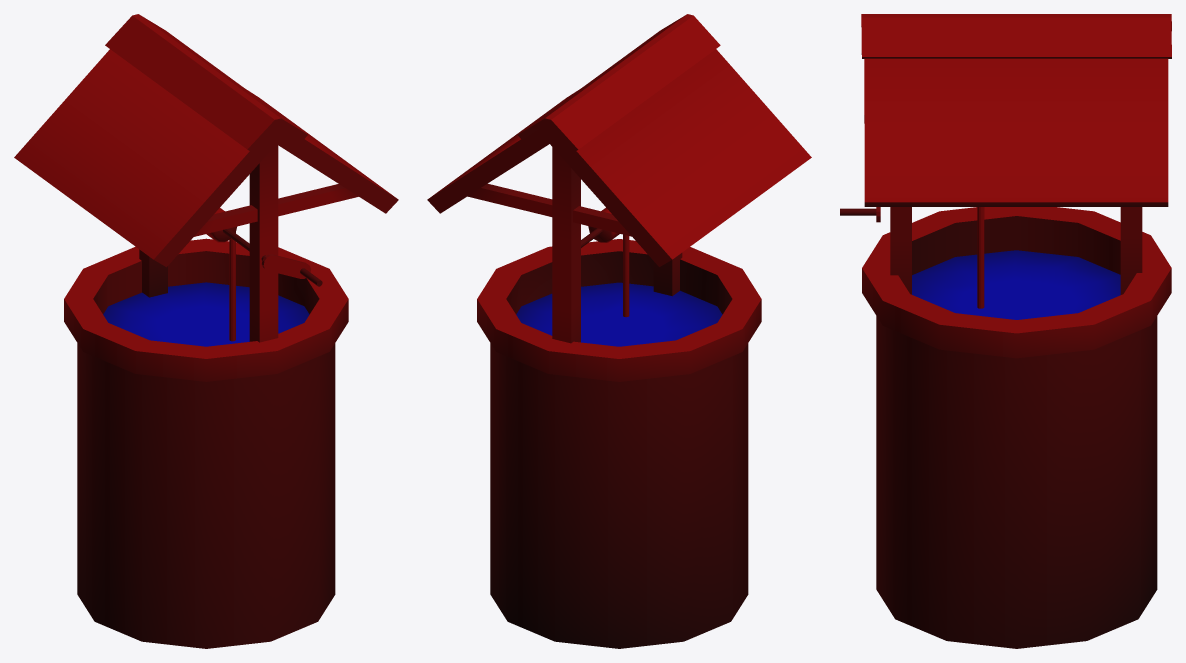
File: Well.glb
The picture shows the model from 3 angles, left to right: view 1: azimuth 30°, elevation 25°; view 2: azimuth 150°, elevation 25°; view 3: azimuth 270°, elevation 25°; orthographic projection. The views are drawn at different scales.
Parts seen in each view (by area): view 1: Well; view 2: Well; view 3: Well.
Boxes of the visible parts, x1,y1,x2,y2 form: Well: (14,14,398,648); Well: (427,14,811,648); Well: (840,14,1171,648).
Bounding box in the file's own units: 5.91 × 12.08 × 6.33.
